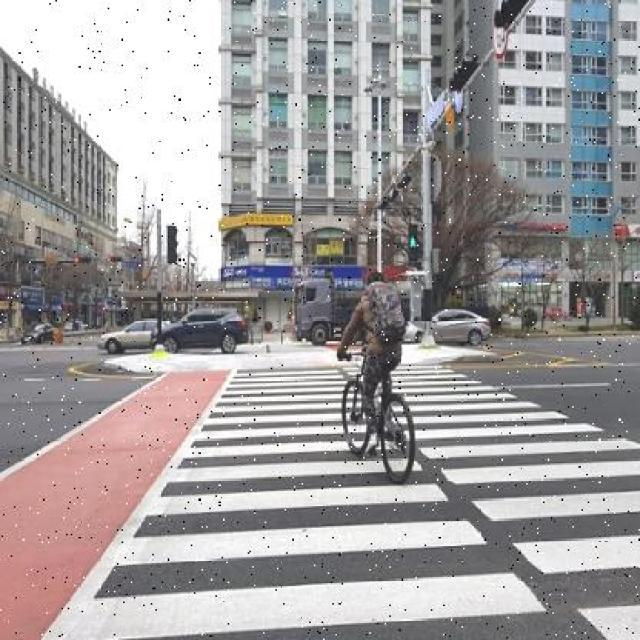crosswalk: (41, 369, 569, 640), (346, 367, 640, 640)
